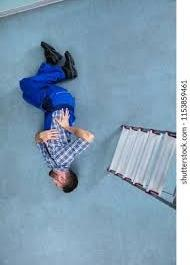fall: (1, 64, 114, 171)
